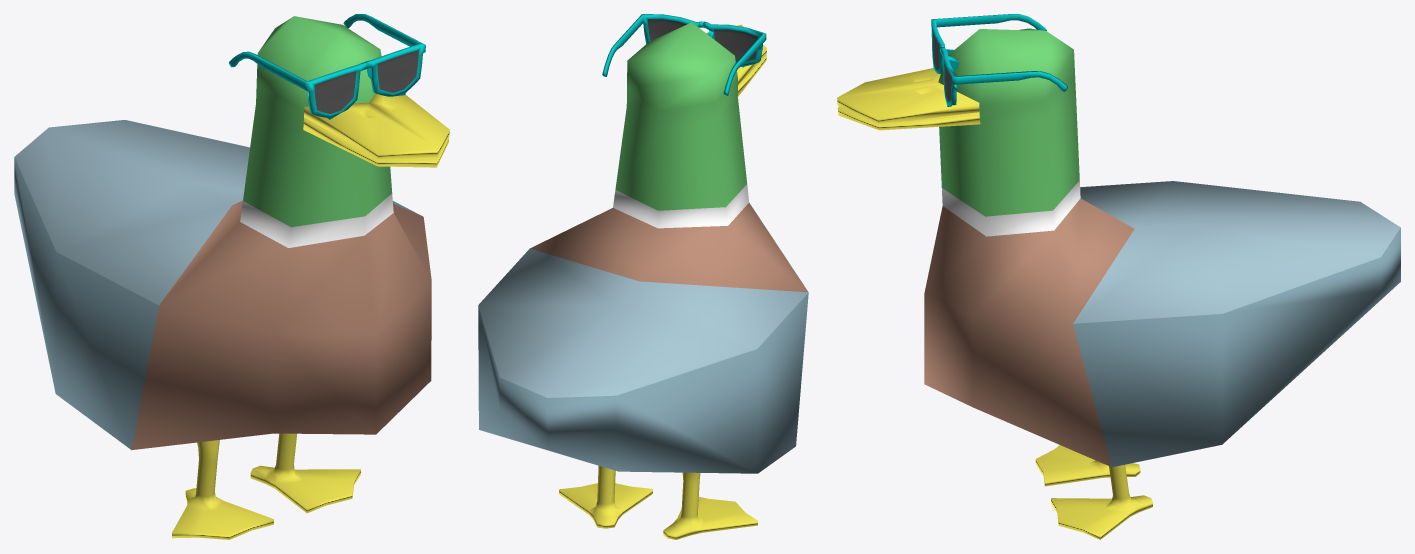
The model's file is Paperapistola.fbx.
3 renders of one model, left to right at view 1: azimuth 30°, elevation 25°; view 2: azimuth 150°, elevation 25°; view 3: azimuth 270°, elevation 25°, orthographic. The views are drawn at different scales.
Visible parts, largest first — view 1: Sunnies_Mesh.006; view 2: Sunnies_Mesh.006; view 3: Sunnies_Mesh.006.
Part boxes in pixels (left/top/right/bottom): Sunnies_Mesh.006: left=14, top=14, right=449, bottom=539; Sunnies_Mesh.006: left=478, top=14, right=808, bottom=539; Sunnies_Mesh.006: left=837, top=14, right=1400, bottom=539.
Bounding box in the file's own units: 63.21 × 98.25 × 106.
